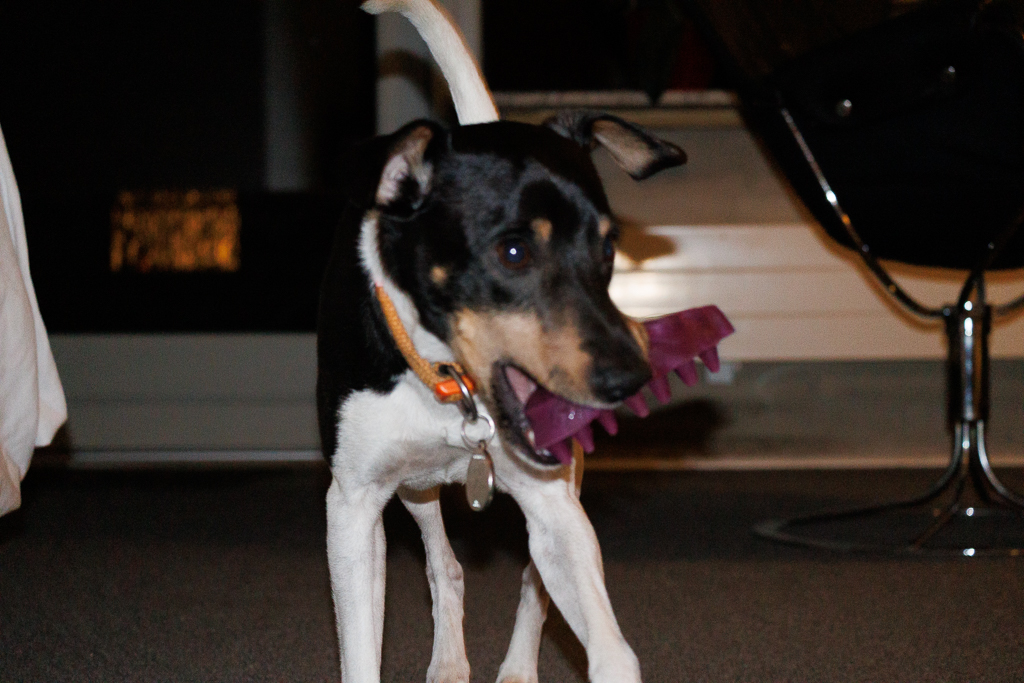Dog: (301, 0, 701, 683)
